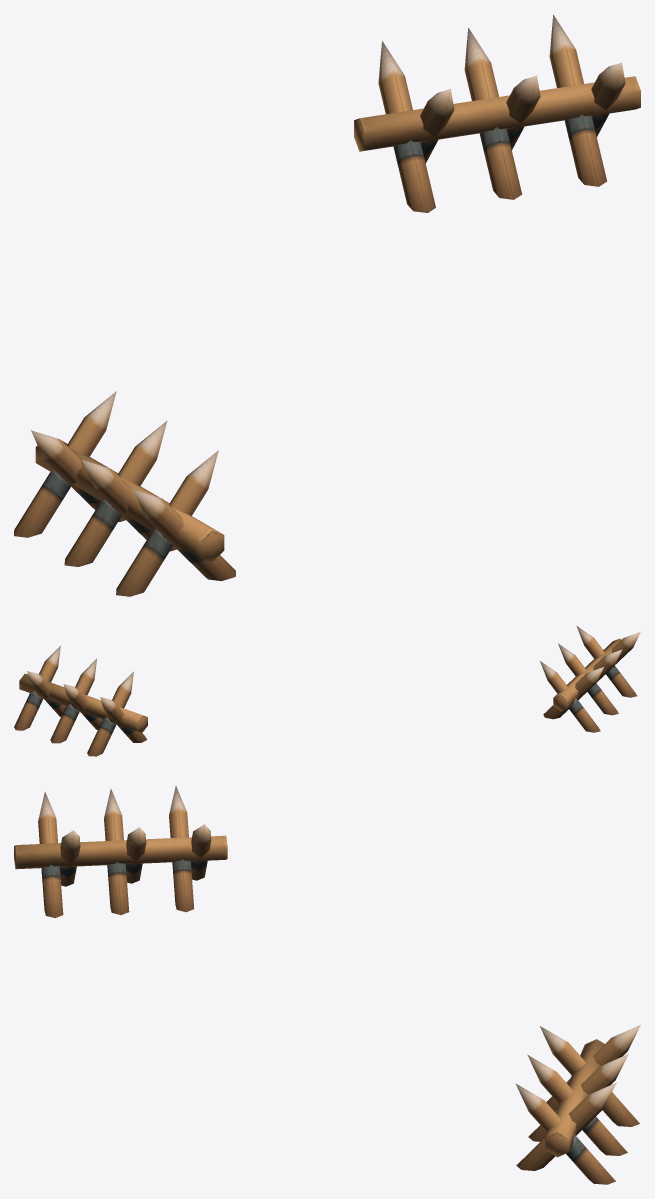
Rendered from area_13_7.fbx.
The picture shows the model from 3 angles, top to bottom: view 1: azimuth 30°, elevation 25°; view 2: azimuth 150°, elevation 25°; view 3: azimuth 270°, elevation 25°; orthographic projection. The views are drawn at different scales.
Visible parts, largest first — view 1: area_13_7; view 2: area_13_7; view 3: area_13_7.
Part boxes in pixels (left/top/right/bottom): area_13_7: left=14, top=15, right=640, bottom=596; area_13_7: left=14, top=626, right=640, bottom=756; area_13_7: left=14, top=786, right=640, bottom=1184.
Bounding box in the file's own units: 15.72 × 2.08 × 13.
